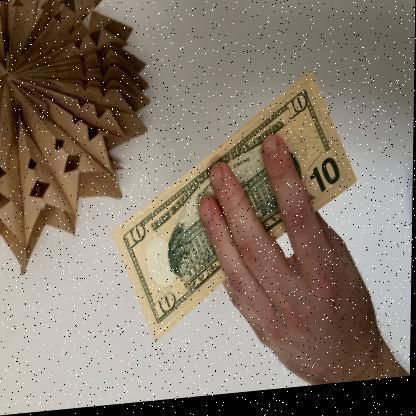ten-back: (112, 73, 359, 343)
